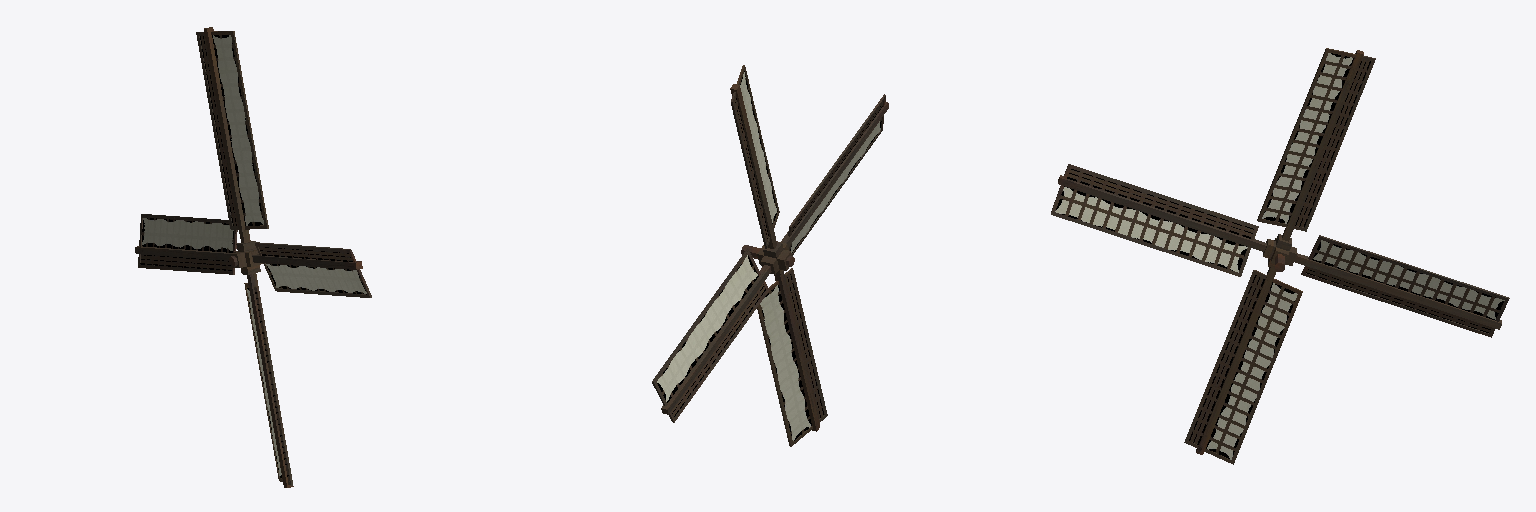
3 views of the same model, side by side, from view 1: azimuth 30°, elevation 25°; view 2: azimuth 150°, elevation 25°; view 3: azimuth 270°, elevation 25° (orthographic).
Parts seen in each view (by area): view 1: elice; view 2: elice; view 3: elice.
Boxes of the visible parts, x1=… form: elice: x1=135, y1=27, x2=371, y2=487; elice: x1=652, y1=65, x2=888, y2=446; elice: x1=1051, y1=48, x2=1509, y2=464.
Size of the model in its own units: 3.86 by 31.94 by 31.94.
Materials: 1 (1 with a texture image).